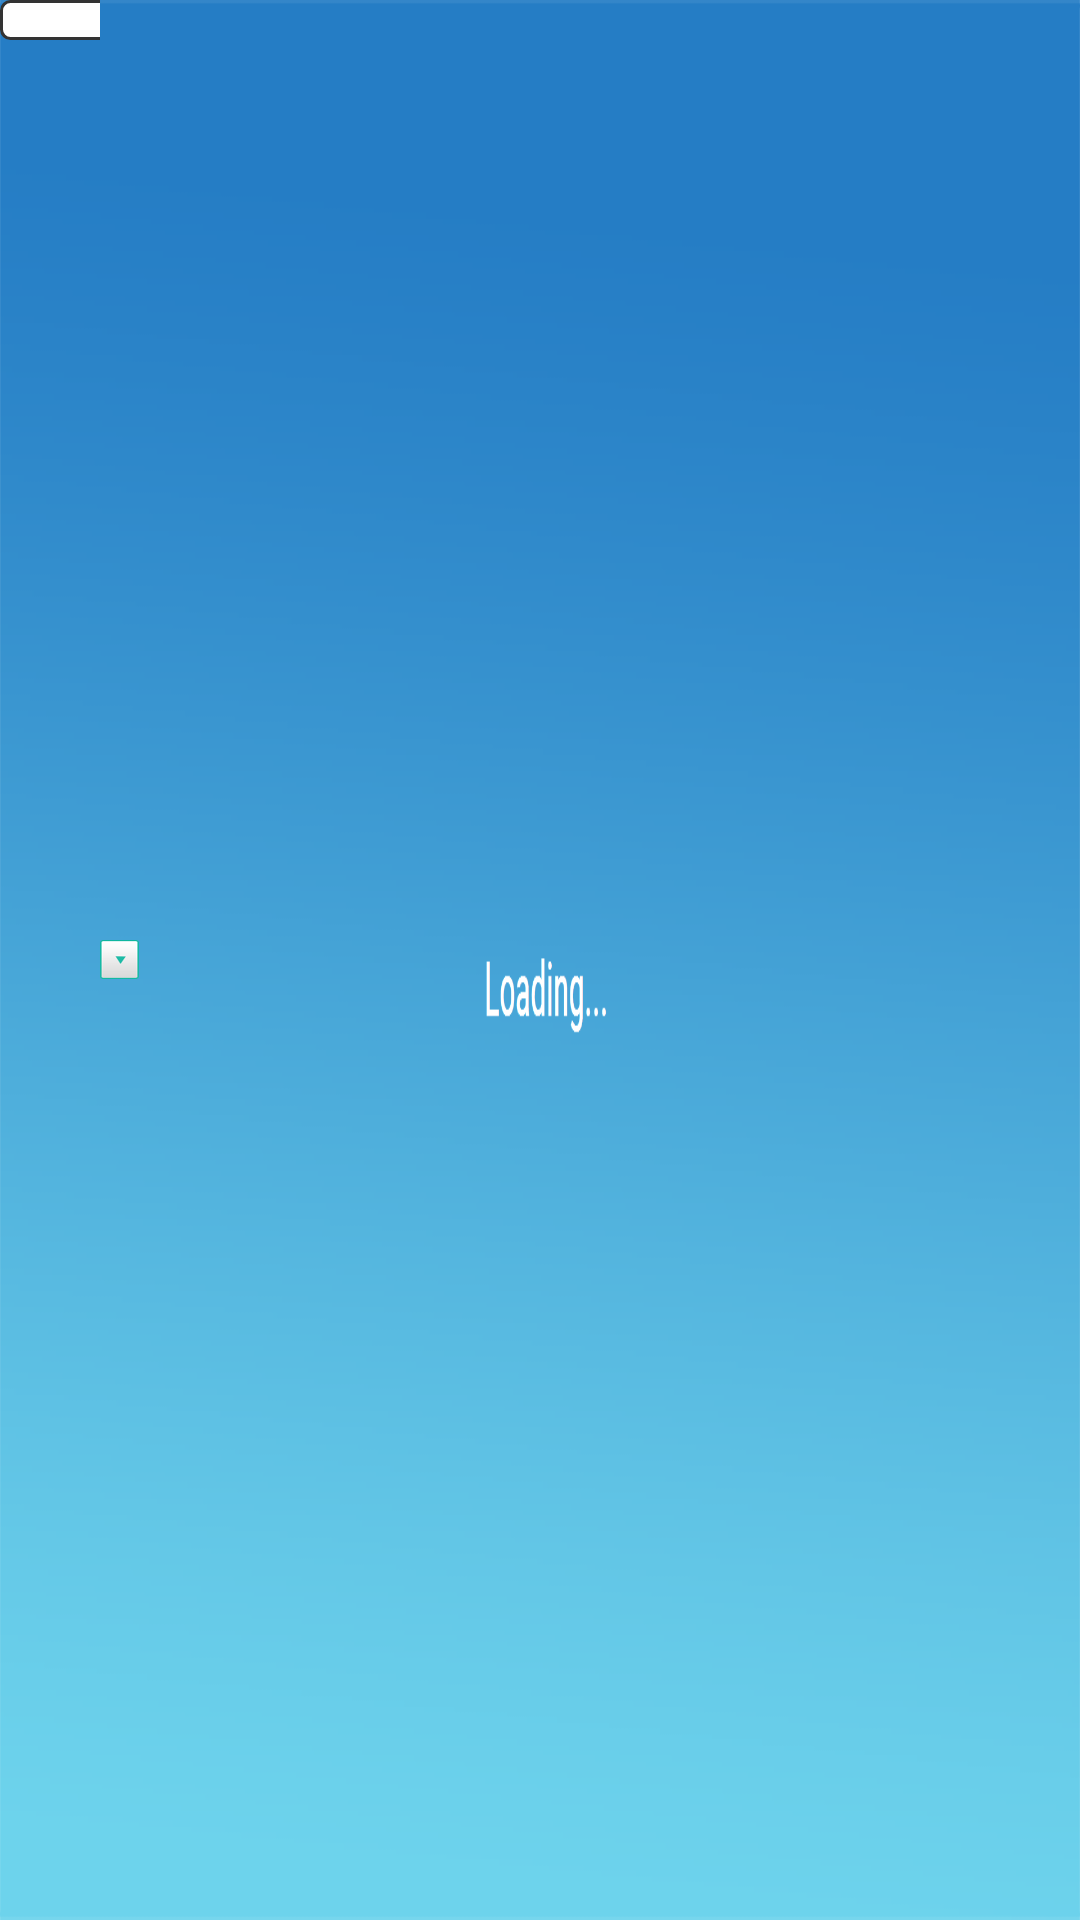

Icons on this 1080 x 1920 Android screen, each with its box as [left=x1, top=y1, right=x2, bottom=y2]:
combobox login sel: [left=100, top=940, right=139, bottom=979]
